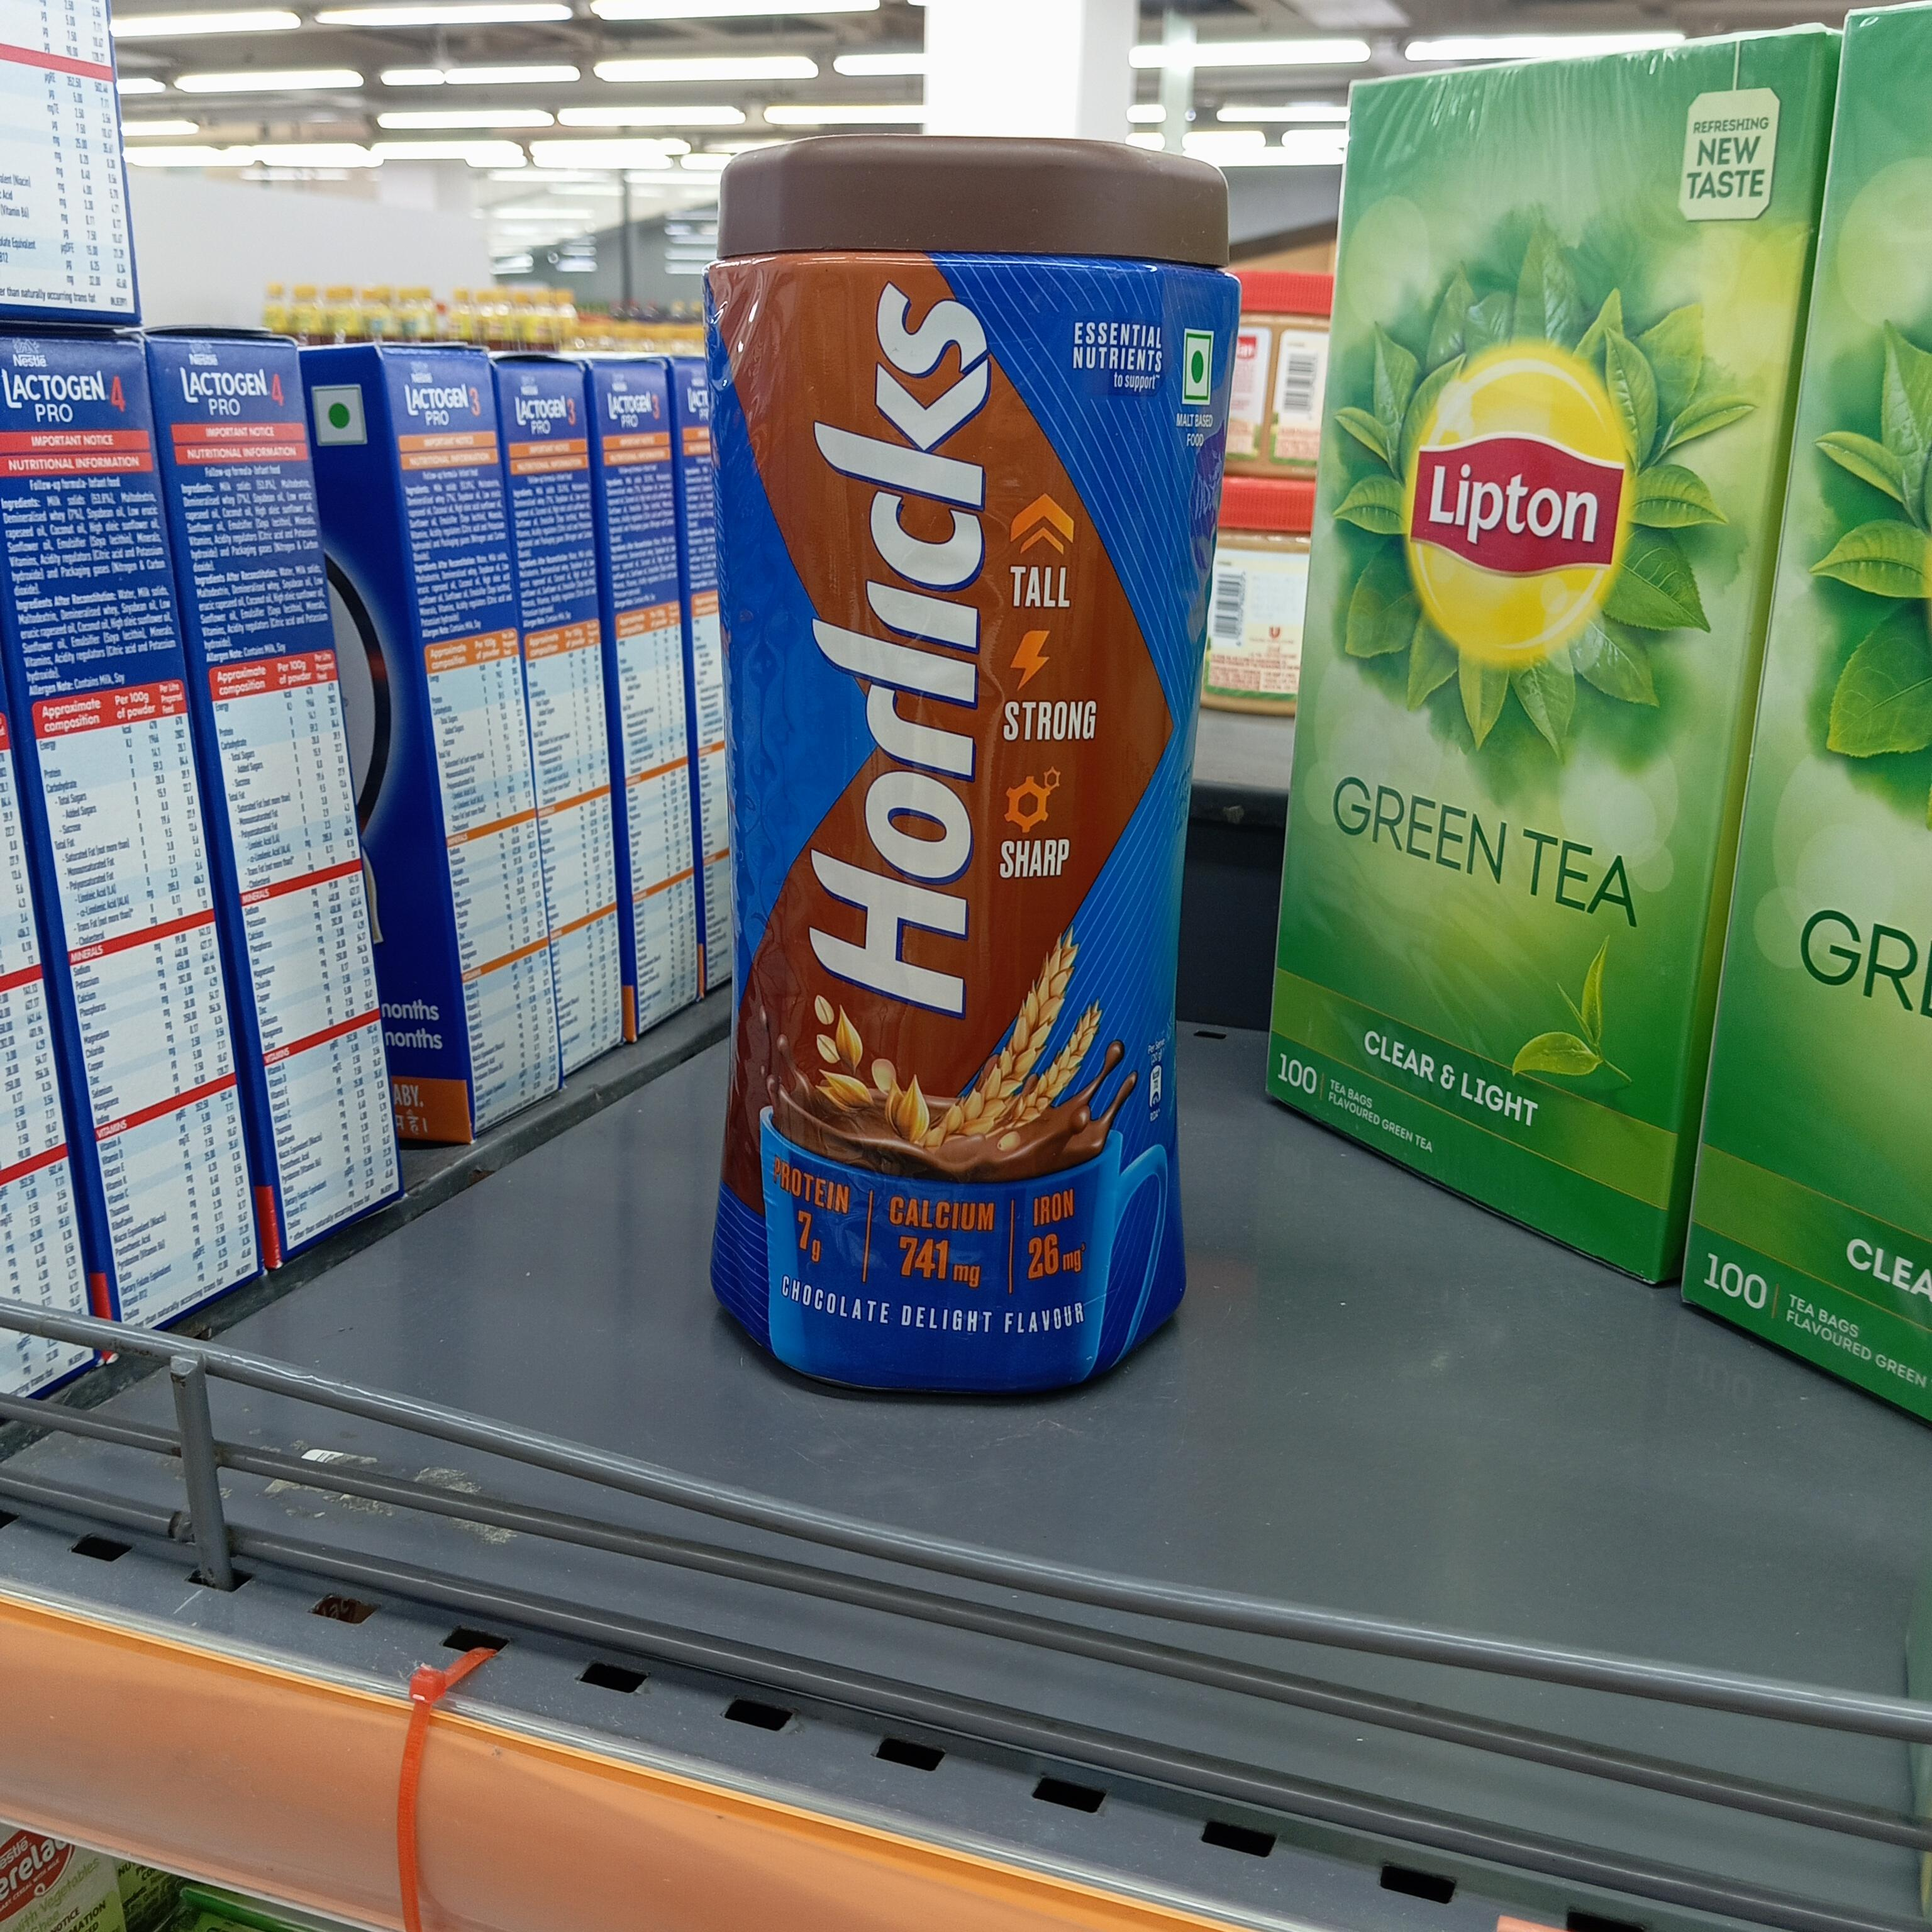HORLICK_CHOCOLATE_1_KG_JAR: (701, 129, 1244, 1394)
